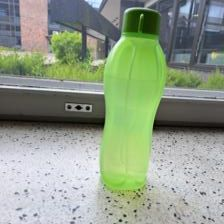bottle: (97, 6, 170, 192)
